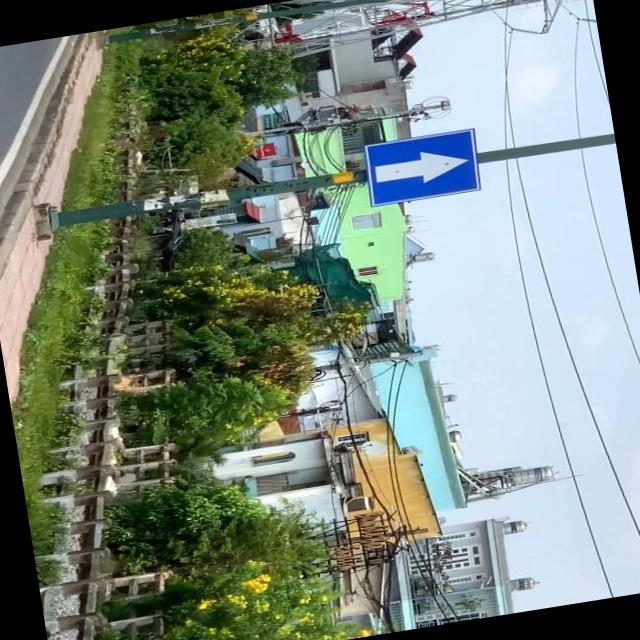I-407a: (362, 127, 484, 207)
